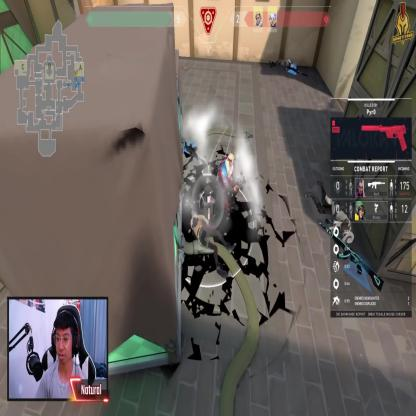enemy: (218, 150, 240, 214)
enemy_head: (228, 152, 234, 167)
